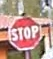stop: (5, 16, 42, 50)
